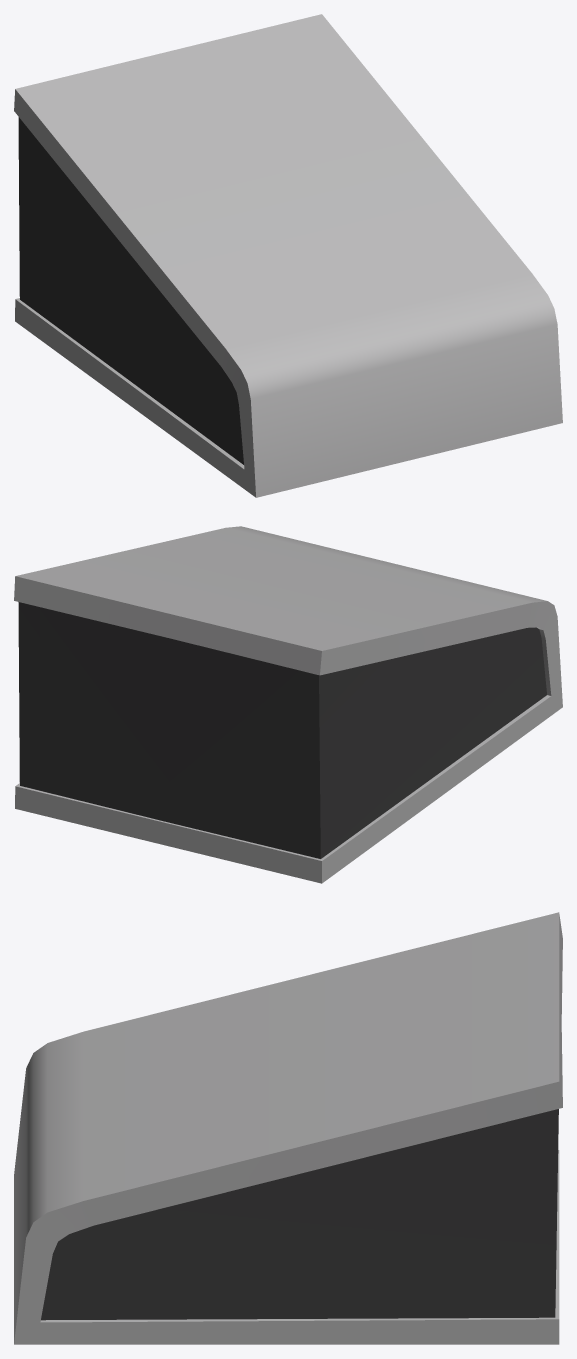
File: transitek.fbx
3 renders of one model, top to bottom at view 1: azimuth 30°, elevation 25°; view 2: azimuth 150°, elevation 25°; view 3: azimuth 270°, elevation 25°, orthographic. The views are drawn at different scales.
Parts seen in each view (by area): view 1: Cube.007; view 2: Cube.007; view 3: Cube.007.
Boxes of the visible parts, <box> form: Cube.007: <box>14,14,562,497</box>; Cube.007: <box>14,526,562,883</box>; Cube.007: <box>14,912,562,1344</box>.
Size of the model in its own units: 37.11 by 26.88 by 50.82.
